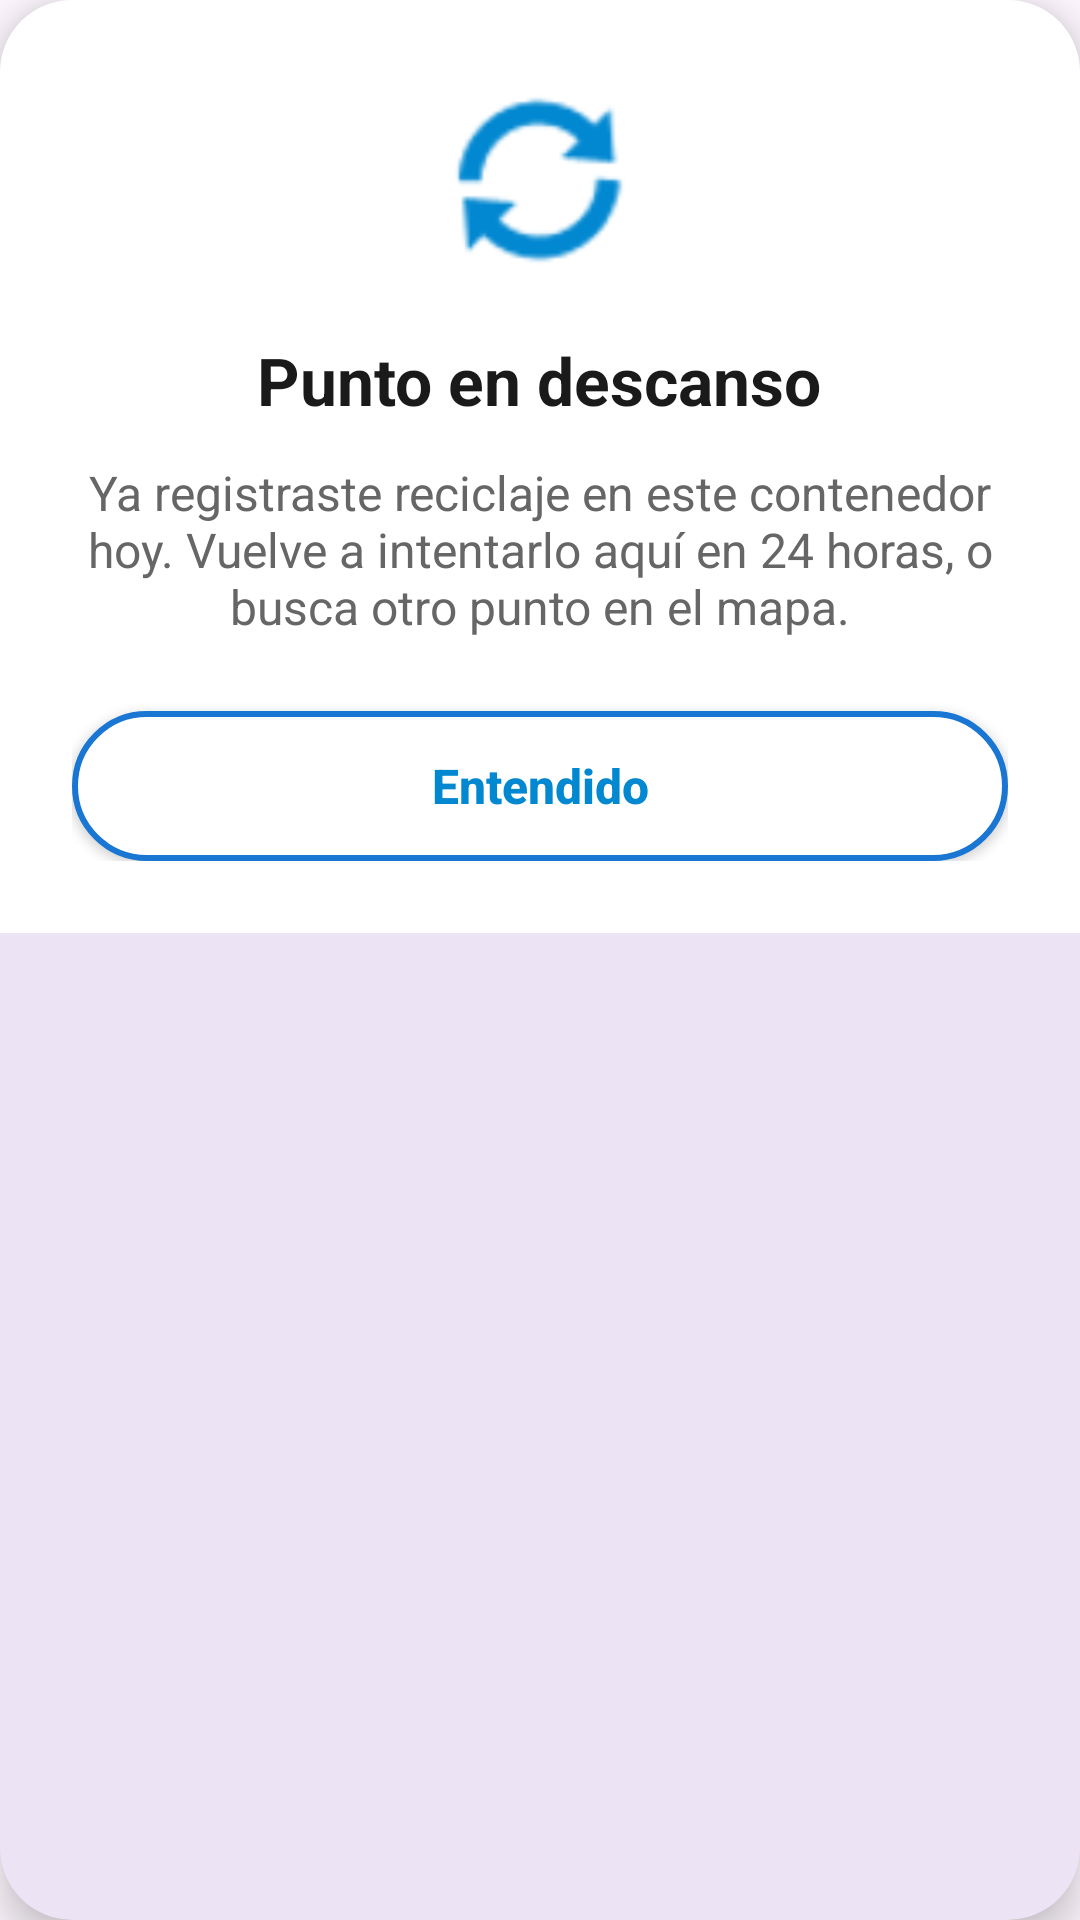

Where to tap for icons on this 1080 x 1920 app screen, as [x,y]:
popup sync: [539,180]
